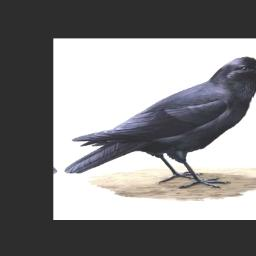Crow: (57, 55, 256, 196)
